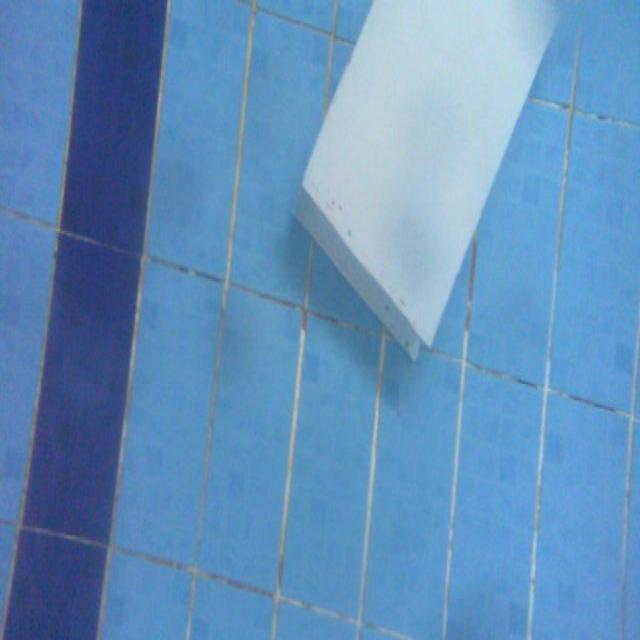Cuboid: (290, 0, 562, 363)
